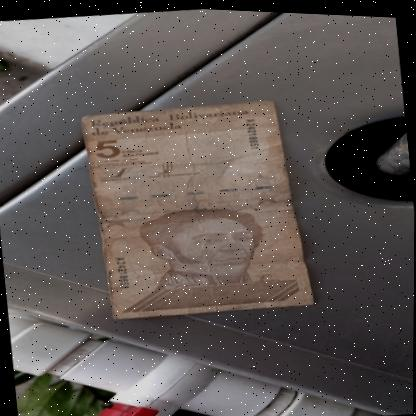five-front-vef: (77, 87, 316, 327)
